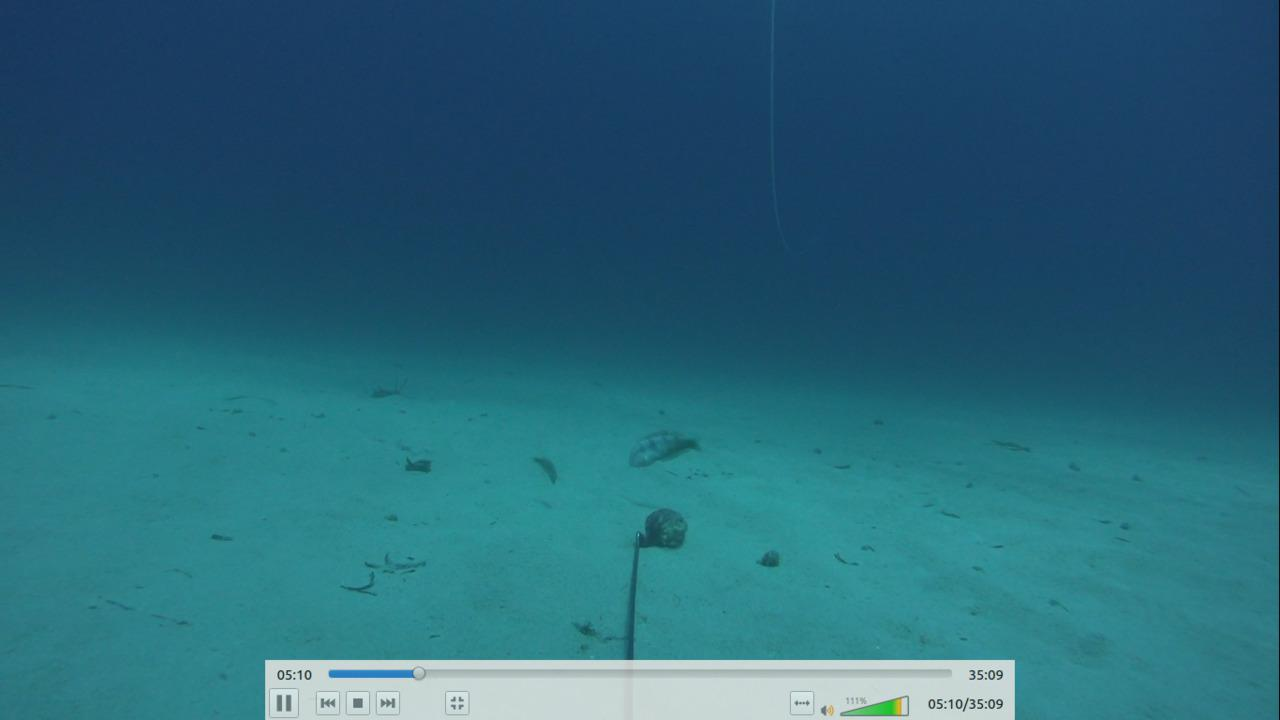raor: (623, 429, 702, 471), (528, 446, 562, 490)
